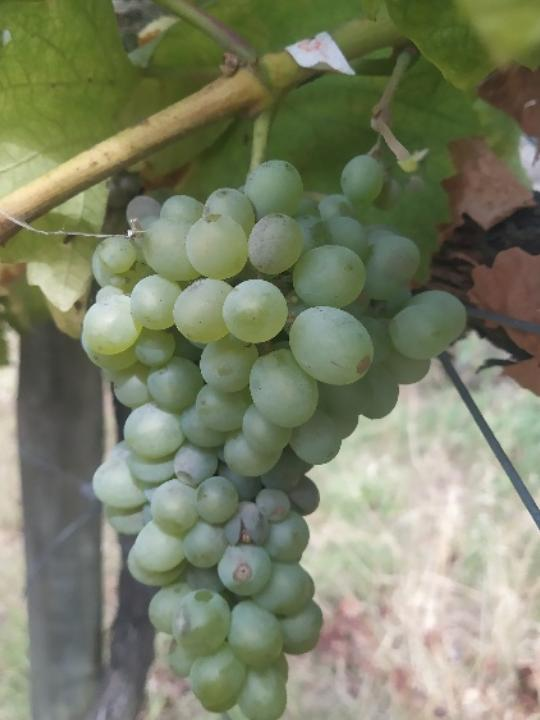grape: (82, 152, 472, 720)
